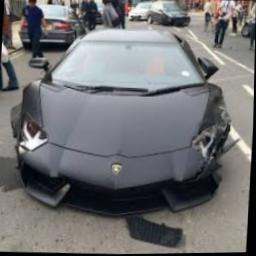Bumper: (19, 149, 226, 218)
Fender: (190, 84, 239, 155)
Light: (22, 115, 49, 151), (193, 125, 218, 163)
